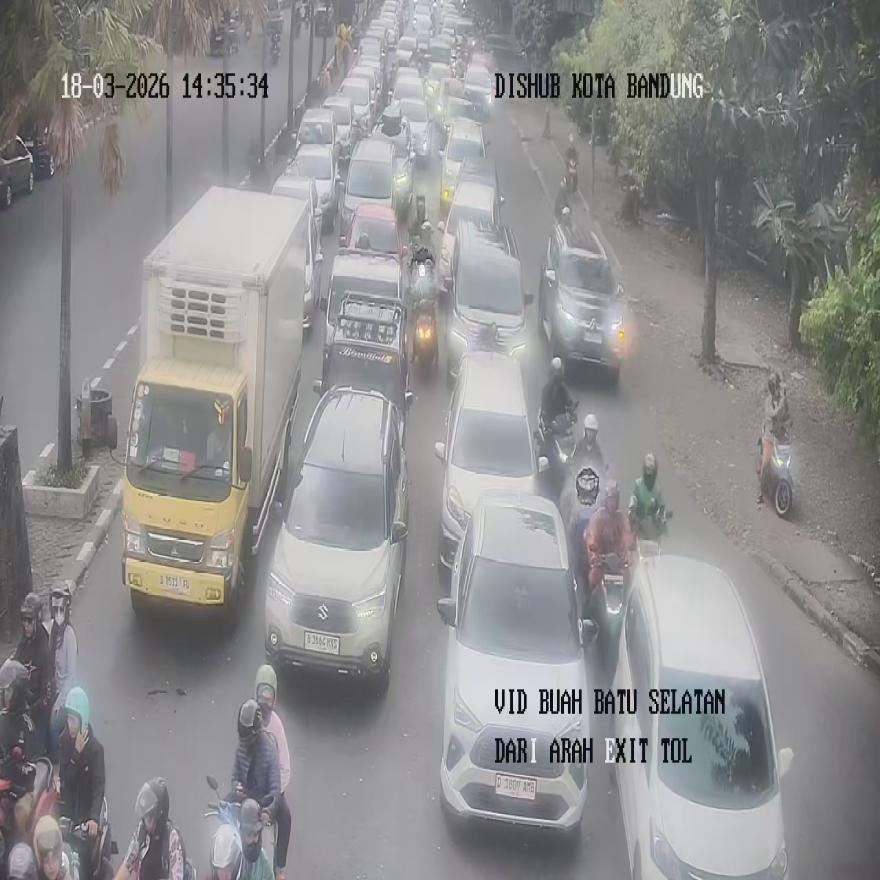Mobil: (606, 554, 793, 878), (437, 488, 598, 838), (264, 382, 408, 690), (434, 348, 544, 571), (444, 221, 534, 383), (539, 223, 626, 382)
Motor: (113, 777, 194, 880), (205, 775, 276, 880), (0, 753, 56, 880), (59, 794, 118, 879), (588, 550, 628, 670), (535, 405, 577, 490), (756, 434, 794, 516), (565, 156, 578, 194), (270, 24, 281, 62)
Truk ringan: (119, 186, 308, 618)
